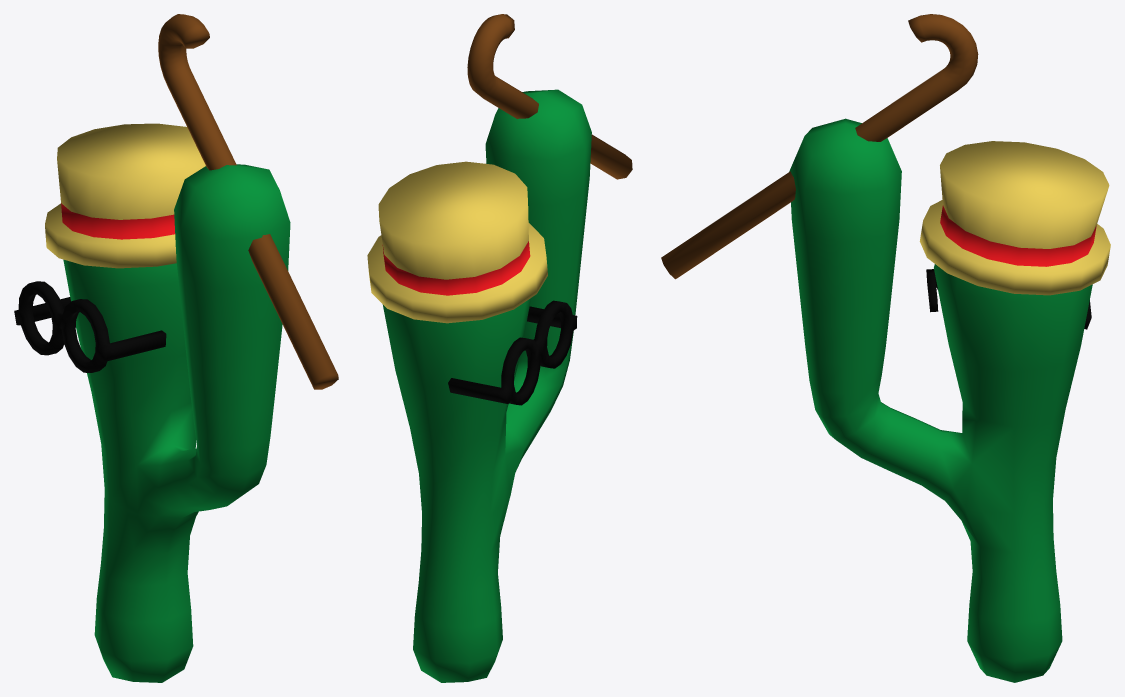
Rendered from Cactus_001.fbx.
3 renders of one model, left to right at view 1: azimuth 30°, elevation 25°; view 2: azimuth 150°, elevation 25°; view 3: azimuth 270°, elevation 25°, orthographic. The views are drawn at different scales.
Visible parts, largest first — view 1: Cactus; view 2: Cactus; view 3: Cactus.
Part boxes in pixels (x1=…): Cactus: x1=14, y1=14, x2=338, y2=682; Cactus: x1=367, y1=14, x2=632, y2=682; Cactus: x1=661, y1=14, x2=1110, y2=682.
Size of the model in its own units: 81.04 by 303 by 186.
